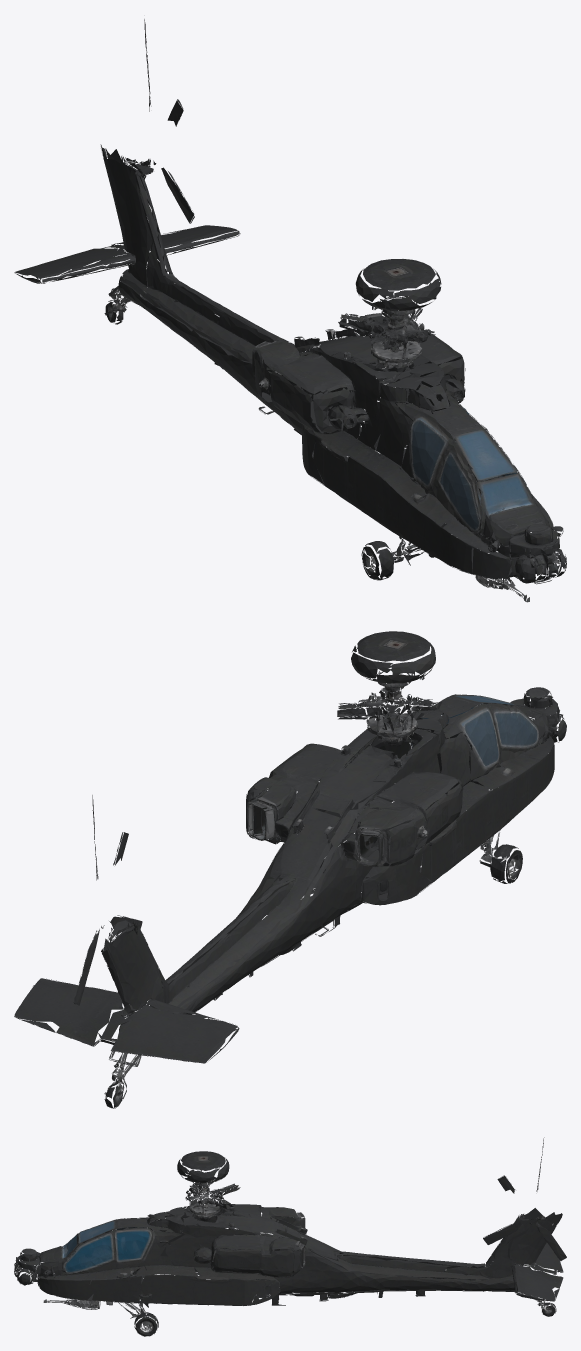
3 views of the same model, one above another, from view 1: azimuth 30°, elevation 25°; view 2: azimuth 150°, elevation 25°; view 3: azimuth 270°, elevation 25° (orthographic). The views are drawn at different scales.
Size of the model in its own units: 0.4297 by 0.6227 by 1.67.
1 material, 1 textured.
